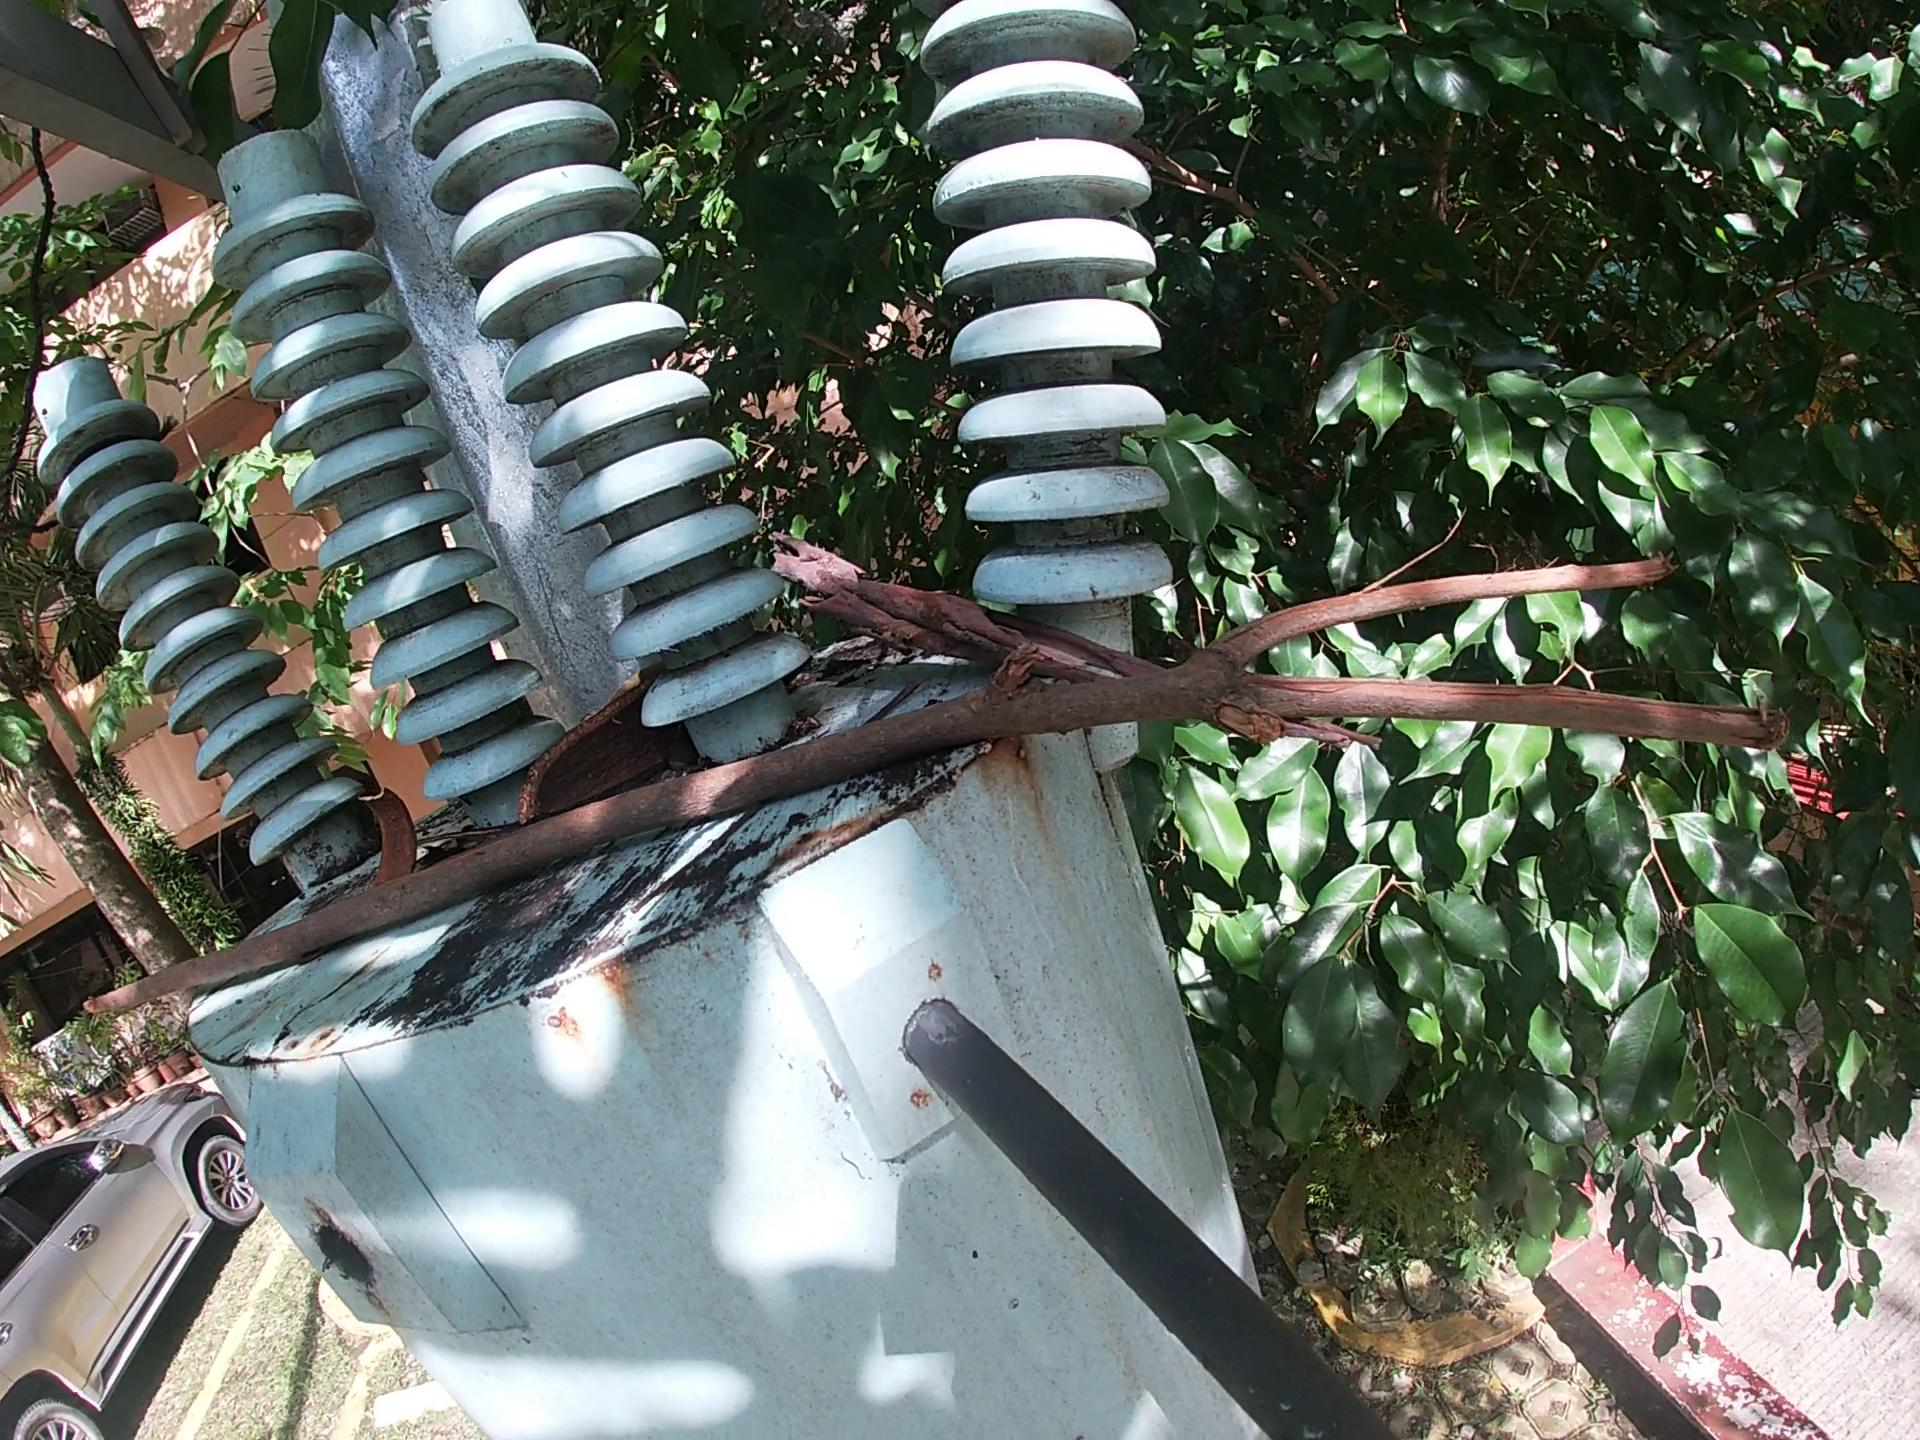mahogany fruit: (511, 666, 674, 830), (349, 787, 420, 895)
tree branch: (71, 542, 1801, 1030), (762, 525, 1394, 756)
